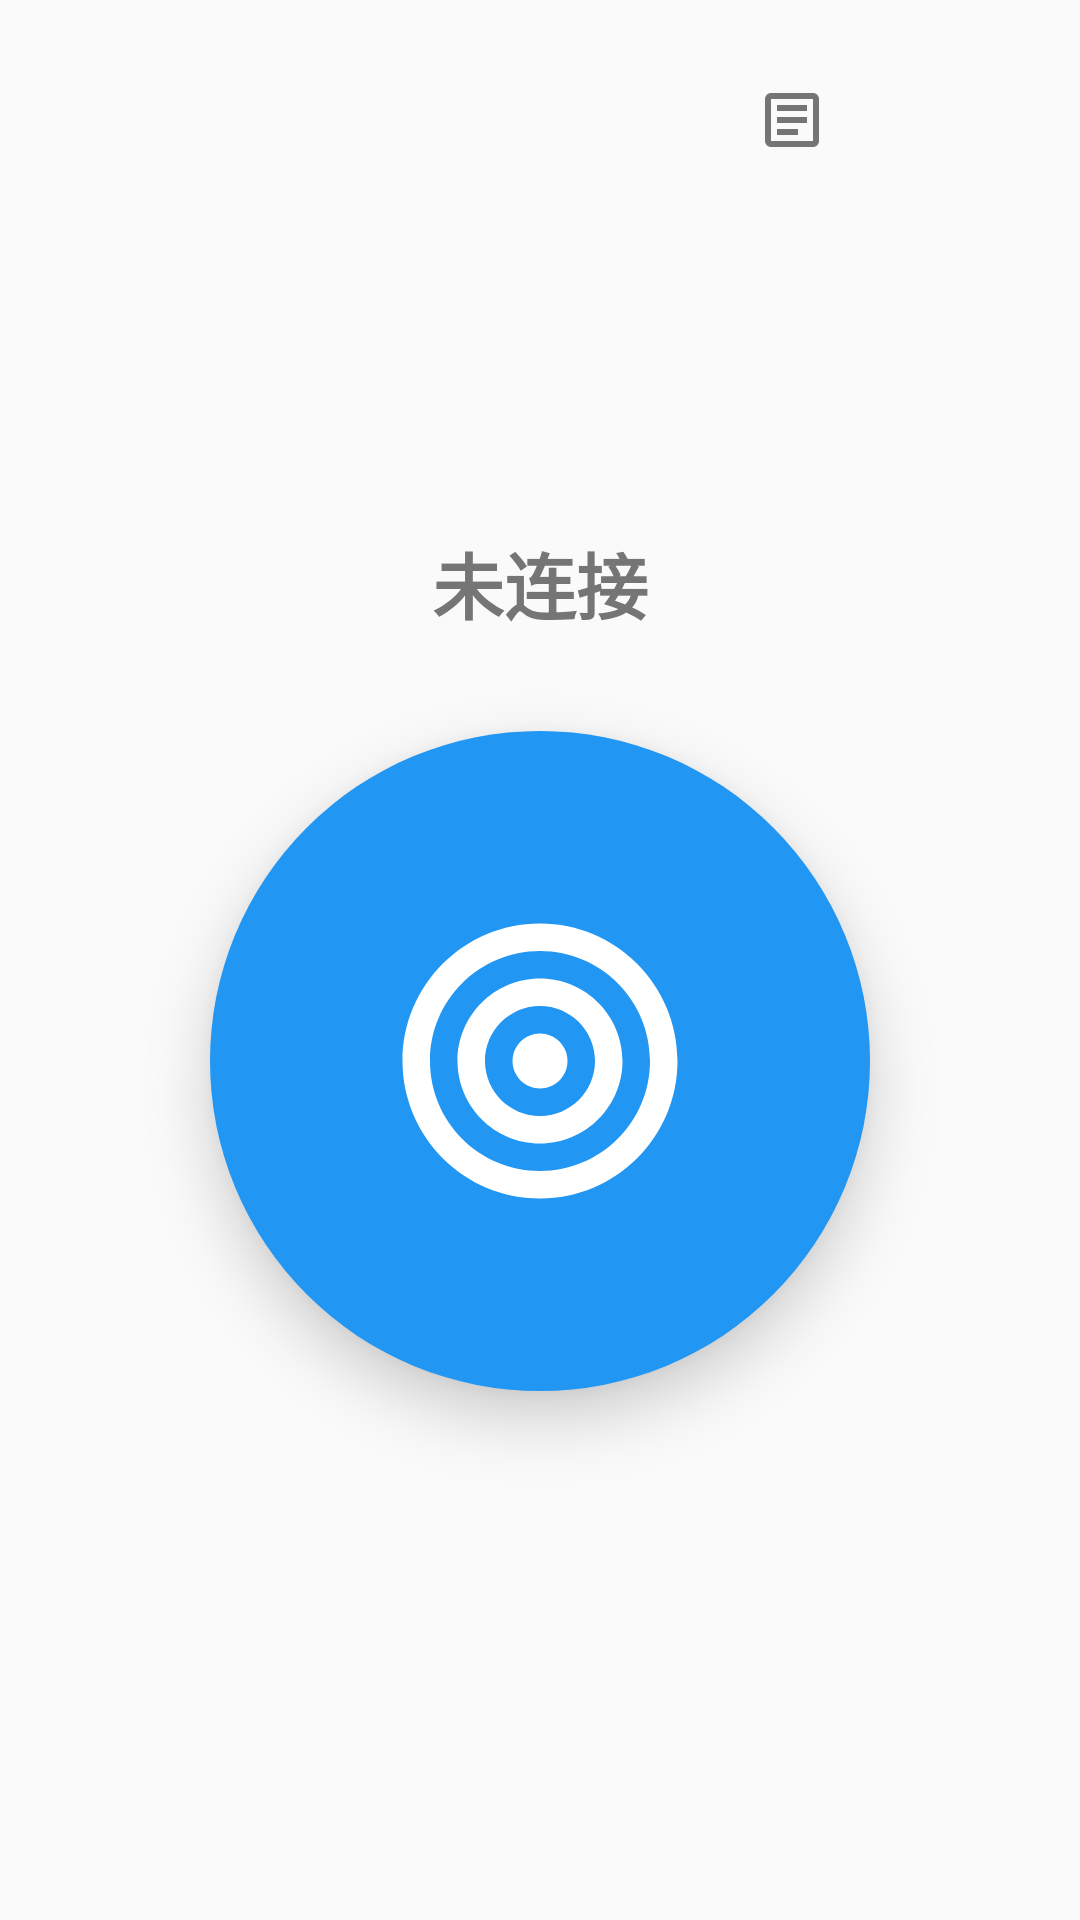

Point at icon controls on the screen. Image size 1080px x 1920px, points as [x,y].
日志: [792,120]
